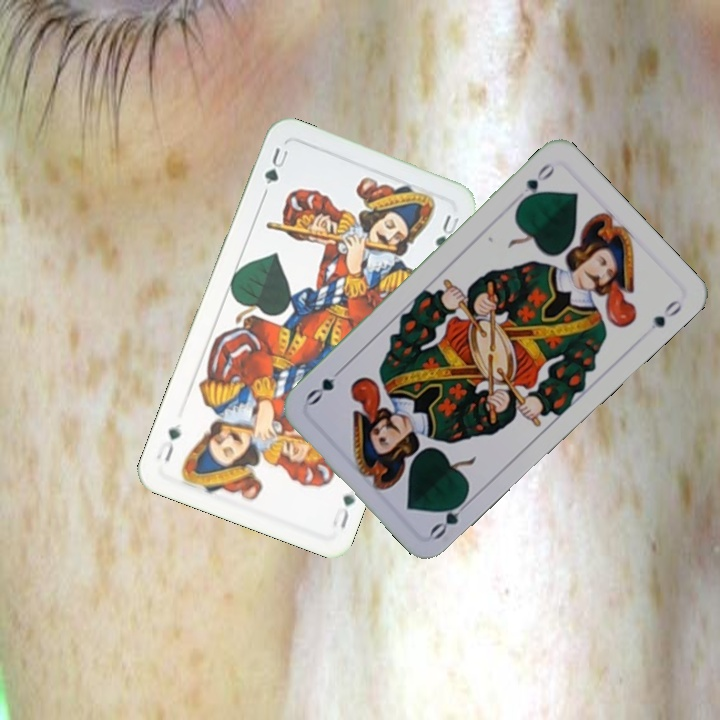GO: (426, 491, 475, 542), (514, 159, 558, 208)
GU: (260, 143, 291, 187), (328, 490, 358, 532)
